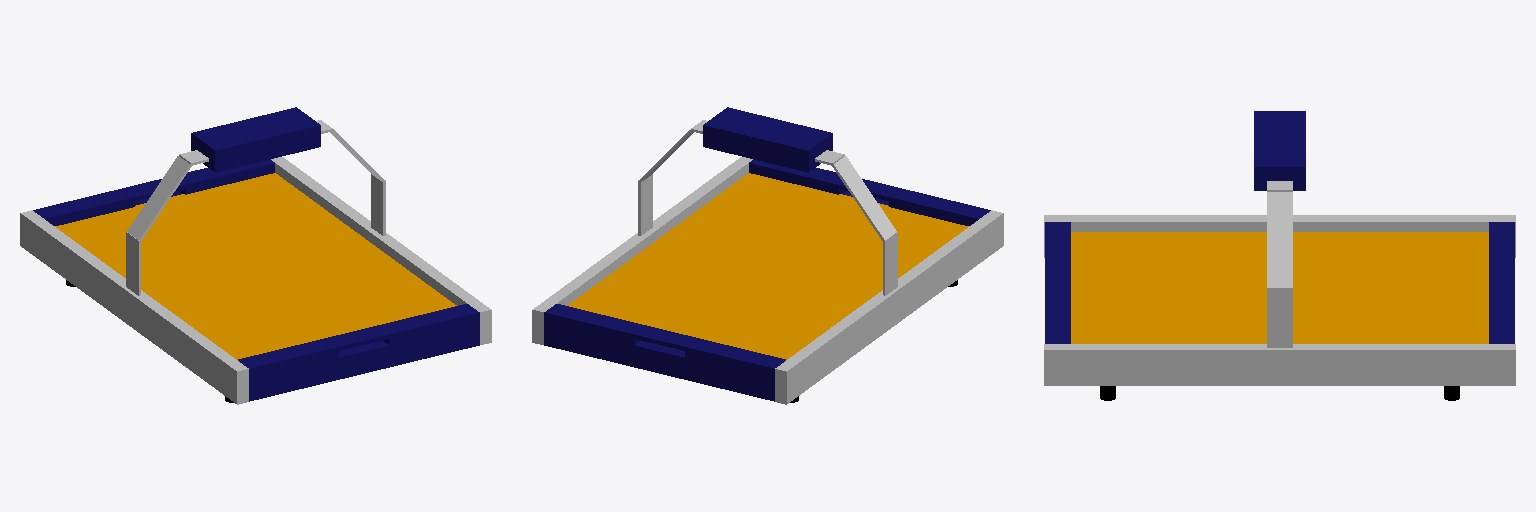
URDF robot description (mesa):
<?xml version="1.0"?>
<robot name="mesa">

  <material name="black">
    <color rgba="0 0 0 1"/>
  </material>       

  <material name="red">
    <color rgba="1 0 0 1"/>
  </material>              

  <material name="blue">
    <color rgba="0.1 0.1 0.44 1"/>
  </material>

  <material name="blue_t">
    <color rgba="0.1 0.1 0.44 0.99"/>
  </material>

  <material name="gris">
    <color rgba="0.80 0.80 0.80 1"/>
  </material> 

  <material name="black_transparent">
    <color rgba="0. 0. 0. 0.8"/>
  </material> 
     

  <link name="base_link">
    <visual>
      <geometry>
        <box size="11 16 0.1"/>
      </geometry>
    </visual>
    <collision>
      <geometry>
        <box size="11 16 0.1"/>
      </geometry>
    </collision>
    <inertial>
      <mass value="10"/>
      <inertia ixx="1.0" ixy="1.0" ixz="1.0" iyy="1.0" iyz="1.0" izz="1.0"/>
    </inertial>
    <contact> 
            <lateral_friction value="0"/>
            <restitution value="0.0" />
    </contact>

  </link>

  <link name="leg_1">
    <visual>
      <geometry>
        <cylinder length="2" radius="0.3"/>
        
      </geometry>
      <origin rpy="0 0 0" xyz="4.9 -6.5 -1.0"/> 
      <material name="black"/>
    </visual>
    <collision>
      <geometry>
        <cylinder length="2" radius="0.3"/>
      </geometry>
      <origin rpy="0 0 0" xyz="4.9 -6.5 -1.0"/> 
    </collision>
    <inertial>
      <mass value="10"/>
      <inertia ixx="1.0" ixy="0.0" ixz="0.0" iyy="1.0" iyz="0.0" izz="1.0"/>
    </inertial>
  </link>

  <link name="leg_2">
    <visual>
      <geometry>
        <cylinder length="2" radius="0.3"/>
      </geometry>
      <origin rpy="0 0 0" xyz="4.9 6.5 -1.0"/>  
      <material name="black"/>
    </visual>
    <collision>
      <geometry>
       <cylinder length="2" radius="0.3"/>
      </geometry>
      <origin rpy="0 0 0" xyz="4.9 6.5 -1.0"/>  
    </collision>
    <inertial>
      <mass value="10"/>
      <inertia ixx="1.0" ixy="0.0" ixz="0.0" iyy="1.0" iyz="0.0" izz="1.0"/>
    </inertial>
    
  </link>

  <link name="leg_3">
    <visual>
      <geometry>
        <cylinder length="2" radius="0.3"/>
      </geometry>
      <origin rpy="0 0 0" xyz="-4.9 -6.5 -1.0"/> 
      <material name="black"/>
    </visual>
    <collision>
      <geometry>
        <cylinder length="2" radius="0.3"/>
      </geometry>
      <origin rpy="0 0 0" xyz="-4.9 -6.5 -1.0"/>  
    </collision>
    <inertial>
      <mass value="10"/>
      <inertia ixx="1.0" ixy="0.0" ixz="0.0" iyy="1.0" iyz="0.0" izz="1.0"/>
    </inertial>
  </link>

  <link name="leg_4">
    <visual>
      <geometry>
        <cylinder length="2" radius="0.3"/>
      </geometry>
      <origin rpy="0 0 0" xyz="-4.9 6.5 -1.0"/>  
      <material name="black"/>
    </visual>
    <collision>
      <geometry>
        <cylinder length="2" radius="0.3"/>
      </geometry>
      <origin rpy="0 0 0" xyz="-4.9 6.5 -1.0"/>  
    </collision>   
    <inertial>
      <mass value="10"/>
      <inertia ixx="1.0" ixy="0.0" ixz="0.0" iyy="1.0" iyz="0.0" izz="1.0"/>
    </inertial> 
  </link>


  <link name="wall_leg1_leg4">
    <visual>
      <geometry>
        <box size="9.5 0.3 1.8"/>
      </geometry>
      <origin rpy="0 0 0" xyz="0 6.5 -0.95"/>  
      <material name="black"/>
    </visual>
    <collision>
      <geometry>
       <box size="9.5 0.3 1.8"/>
      </geometry>
      <origin rpy="0 0 0" xyz="0 6.5 -0.95"/>  
    </collision>
    <inertial>
      <mass value="10"/>
      <inertia ixx="1.0" ixy="0.0" ixz="0.0" iyy="1.0" iyz="0.0" izz="1.0"/>
    </inertial>
    
  </link>


  <link name="wall_leg2_leg3">
    <visual>
      <geometry>
        <box size="9.5 0.3 1.8"/>
      </geometry>
      <origin rpy="0 0 0" xyz="0 -6.5 -0.95"/>  
      <material name="black"/>
    </visual>
    <collision>
      <geometry>
       <box size="9.5 0.3 1.8"/>
      </geometry>
      <origin rpy="0 0 0" xyz="0 -6.5 -0.95"/>  
    </collision>
    <inertial>
      <mass value="10"/>
      <inertia ixx="1.0" ixy="0.0" ixz="0.0" iyy="1.0" iyz="0.0" izz="1.0"/>
    </inertial>
  </link>

  <link name="side_wall_1">
    <visual>
      <geometry>
        <box size="0.56 1.5 17.8"/>
      </geometry>
      <origin rpy="1.570796 0 0" xyz="5.75 0.0 -0.25"/>  
      <material name="gris"/>
    </visual>
    <collision>
      <geometry>
        <box size="0.56 3.0 17.8"/>
      </geometry>
      <origin rpy="1.570796 0 0" xyz="5.75 0.0 -0.25"/>  
    </collision>
    <inertial>
      <mass value="10"/>
      <inertia ixx="1.0" ixy="0.0" ixz="0.0" iyy="1.0" iyz="0.0" izz="1.0"/>
    </inertial>
    <contact> 
            <lateral_friction value="0"/>
            <restitution value="1.15" />
    </contact>
  </link>

  <link name="side_wall_2">
    <visual>
      <geometry>
        <box size="0.56 1.5 17.8"/>
      </geometry>
      <origin rpy="1.570796 0 0" xyz="-5.75 0.0 -0.25"/>  
      <material name="gris"/>
    </visual> 
    <collision>
      <geometry>
        <box size="0.56 3.0 17.8"/>
      </geometry>
      <origin rpy="1.570796 0 0" xyz="-5.75 0.0 -0.25"/>  
    </collision>
    <inertial>
      <mass value="10"/>
      <inertia ixx="1.0" ixy="0.0" ixz="0.0" iyy="1.0" iyz="0.0" izz="1.0"/>
    </inertial>
    <contact> 
            <lateral_friction value="0"/>
            <restitution value="1.15" />
    </contact>
  </link>

  <link name="side_wall_3_1">
    <visual>
      <geometry>
        <box size="1.5 1 4.28"/>
      </geometry>
      <origin rpy="0 1.570796 0" xyz="-3.33 -8.39 -0.25"/>  
      <material name="blue"/>
    </visual>
    <collision>
      <geometry>
        <box size="3.0 1 4.28"/>
      </geometry>
      <origin rpy="0 1.570796 0" xyz="-3.33 -8.39 -0.25"/>  
      <material name="blue"/>
    </collision>
    <inertial>
      <mass value="10"/>
      <inertia ixx="1.0" ixy="0.0" ixz="0.0" iyy="1.0" iyz="0.0" izz="1.0"/>
    </inertial>
    <contact> 
            <lateral_friction value="0"/>
            <restitution value="1.15" />
    </contact>
  </link>

  <link name="side_wall_3_2">
    <visual>
      <geometry>
        <box size="1.5 1 4.28"/>
      </geometry>
      <origin rpy="0 1.570796 0" xyz="3.33 -8.39 -0.25"/>  
      <material name="blue"/>
    </visual>
    <collision>
      <geometry>
        <box size="3.0 1 4.28"/>
      </geometry>
      <origin rpy="0 1.570796 0" xyz="3.33 -8.39 -0.25"/>  
      <material name="blue"/>
    </collision>
    <inertial>
      <mass value="10"/>
      <inertia ixx="1.0" ixy="0.0" ixz="0.0" iyy="1.0" iyz="0.0" izz="1.0"/>
    </inertial>
    <contact> 
            <lateral_friction value="0"/>
            <restitution value="1.15" />
    </contact>
  </link>

  <link name="side_wall_3_3">
    <visual>
      <geometry>
        <box size="0.2 1 2.4"/>
      </geometry>
      <origin rpy="0 1.570796 0" xyz="0. -8.39 0.40"/>  
      <material name="blue"/>
    </visual>
    <collision>
      <geometry>
        <box size="0.4 1 2.4"/>
      </geometry>
      <origin rpy="0 1.570796 0" xyz="0. -8.39 1.35"/>  
      <material name="blue"/>
    </collision>
    <inertial>
      <mass value="10"/>
      <inertia ixx="1.0" ixy="0.0" ixz="0.0" iyy="1.0" iyz="0.0" izz="1.0"/>
    </inertial>
    <contact> 
            <lateral_friction value="0"/>
            <restitution value="1.15" />
    </contact>
  </link>

  <link name="side_wall_3_4">
    <visual>
      <geometry>
        <box size="1.0 1 2.4"/>
      </geometry>
      <origin rpy="0 1.570796 0" xyz="0. -8.39 -0.5"/>  
      <material name="blue"/>
    </visual>
    <collision>
      <geometry>
        <box size="1.0 1 2.4"/>
      </geometry>
      <origin rpy="0 1.570796 0" xyz="0. -8.39 -0.5"/>  
    </collision>
    <inertial>
      <mass value="10"/>
      <inertia ixx="1.0" ixy="0.0" ixz="0.0" iyy="1.0" iyz="0.0" izz="1.0"/>
    </inertial>
    <contact> 
            <lateral_friction value="0"/>
            <restitution value="1.15" />
    </contact>
  </link>

  <link name="side_wall_4_1">
    <visual>
      <geometry>
        <box size="1.5 1.0 4.28"/>
      </geometry>
      <origin rpy="0 1.570796 0" xyz="-3.33 8.39 -0.25"/>  
      <material name="blue"/>
    </visual>
    <collision>
      <geometry>
        <box size="3.0 1.0 4.28"/>
      </geometry>
      <origin rpy="0 1.570796 0" xyz="-3.33 8.39 -0.25"/>  
    </collision>
    <inertial>
      <mass value="10"/>
      <inertia ixx="1.0" ixy="0.0" ixz="0.0" iyy="1.0" iyz="0.0" izz="1.0"/>
    </inertial>
    <contact> 
            <lateral_friction value="0"/>
            <restitution value="1.15" />
    </contact>
  </link>

  <link name="side_wall_4_2">
    <visual>
      <geometry>
        <box size="1.5 1.0 4.28"/>
      </geometry>
      <origin rpy="0 1.570796 0" xyz="3.33 8.39 -0.25"/>  
      <material name="blue"/>
    </visual>
    <collision>
      <geometry>
        <box size="3.0 1.0 4.28"/>
      </geometry>
      <origin rpy="0 1.570796 0" xyz="3.33 8.39 -0.25"/>  
      <material name="blue"/>
    </collision>
    <inertial>
      <mass value="10"/>
      <inertia ixx="1.0" ixy="0.0" ixz="0.0" iyy="1.0" iyz="0.0" izz="1.0"/>
    </inertial>
    <contact> 
            <lateral_friction value="0"/>
            <restitution value="1.15" />
    </contact>
  </link>

  <link name="side_wall_4_3">
    <visual>
      <geometry>
        <box size="0.2 1.0 2.4"/>
      </geometry>
      <origin rpy="0 1.570796 0" xyz="0. 8.39 0.40"/>  
      <material name="blue"/>
    </visual>
    <collision>
      <geometry>
        <box size="0.4 1.0 2.4"/>
      </geometry>
      <origin rpy="0 1.570796 0" xyz="0. 8.39 1.35"/>  
      <material name="blue"/>
    </collision>
    <inertial>
      <mass value="10"/>
      <inertia ixx="1.0" ixy="0.0" ixz="0.0" iyy="1.0" iyz="0.0" izz="1.0"/>
    </inertial>
        <contact> 
            <lateral_friction value="0"/>
            <restitution value="1.15" />
    </contact>
  </link>

  <link name="side_wall_4_4">
    <visual>
      <geometry>
        <box size="1.0 1.0 2.4"/>
      </geometry>
      <origin rpy="0 1.570796 0" xyz="0. 8.39 -0.5"/>  
      <material name="blue"/>
    </visual>
    <collision>
      <geometry>
        <box size="1.0 1.0 2.4"/>
      </geometry>
      <origin rpy="0 1.570796 0" xyz="0. 8.39 -0.5"/>  
    </collision>
    <inertial>
      <mass value="10"/>
      <inertia ixx="1.0" ixy="0.0" ixz="0.0" iyy="1.0" iyz="0.0" izz="1.0"/>
    </inertial>
    <contact> 
            <lateral_friction value="0"/>
            <restitution value="1.15" />
    </contact>
  </link>

  <link name="limit_left">
    <visual>
      <geometry>
        <box size="0 0 0"/>
      </geometry>
    </visual>
    <collision>
      <geometry>
        <box size="1.0 1.0 2.4"/>
      </geometry>
      <origin rpy="0 1.570796 0" xyz="0. 9.5 0.0"/>  
    </collision>
    <inertial>
      <mass value="10"/>
      <inertia ixx="1.0" ixy="0.0" ixz="0.0" iyy="1.0" iyz="0.0" izz="1.0"/>
    </inertial>
    <contact> 
            <lateral_friction value="0"/>
            <restitution value="0.5" />
    </contact>
  </link>

  <link name="limit_right">
    <visual>
      <geometry>
        <box size="0 0 0"/>
      </geometry>
    </visual>
    <collision>
      <geometry>
        <box size="1.0 1.0 2.4"/>
      </geometry>
      <origin rpy="0 1.570796 0" xyz="0. -9.5 0.0"/>  
    </collision>
    <inertial>
      <mass value="10"/>
      <inertia ixx="1.0" ixy="0.0" ixz="0.0" iyy="1.0" iyz="0.0" izz="1.0"/>
    </inertial>
    <contact> 
            <lateral_friction value="0"/>
            <restitution value="0.5" />
    </contact>
  </link>

  <link name="score">
    <visual>
      <geometry>
        <box size="5 2.0 1.0"/>
      </geometry>
      <origin rpy="0 0 0" xyz="0. 0. 6.0"/>  
      <material name="blue_t"/>
    </visual>
    <inertial>
      <mass value="10"/>
      <inertia ixx="1.0" ixy="0.0" ixz="0.0" iyy="1.0" iyz="0.0" izz="1.0"/>
    </inertial>
  </link>

  <link name="support_score_1">
    <visual>
      <geometry>
       <box size="0.12 1.0 3.1"/>
        <cylinder length="3.0" radius="0.12"/>
      </geometry>
      <origin rpy="0 0 0" xyz="-5.8 0. 1.45"/>  
     <material name="gris"/>  
    </visual>
    <inertial>
      <mass value="10"/>
      <inertia ixx="1.0" ixy="0.0" ixz="0.0" iyy="1.0" iyz="0.0" izz="1.0"/>
    </inertial>
  </link>

  <link name="support_score_2">
    <visual>
      <geometry>
        <box size="0.12 1.0 2.24"/>
      </geometry>
      <origin rpy="0 1.57 0" xyz="-2.24 0. 5.87"/>  
      <material name="gris"/> 
    </visual>
    <inertial>
      <mass value="10"/>
      <inertia ixx="1.0" ixy="0.0" ixz="0.0" iyy="1.0" iyz="0.0" izz="1.0"/>
    </inertial>
  </link>

  <link name="support_score_3">
    <visual>
      <geometry>
        <box size="0.12 1.0 3.1"/>
      </geometry>
      <origin rpy="0 0 0" xyz="5.8 0. 1.45"/>  
      <material name="gris"/> 
    </visual>
    <inertial>
      <mass value="10"/>
      <inertia ixx="1.0" ixy="0.0" ixz="0.0" iyy="1.0" iyz="0.0" izz="1.0"/>
    </inertial>
  </link>

  <link name="support_score_4">
    <visual>
      <geometry>
        <box size="0.12 1.0 2.24"/>
      </geometry>
      <origin rpy="0 1.57 0" xyz="2.24 0. 5.87"/>  
     <material name="gris"/>  
    </visual>
    <inertial>
      <mass value="10"/>
      <inertia ixx="1.0" ixy="0.0" ixz="0.0" iyy="1.0" iyz="0.0" izz="1.0"/>
    </inertial>
  </link>

  <link name="support_score_5">
    <visual>
      <geometry>
        <box size="0.12 1.0 3.8"/>
      </geometry>
      <origin rpy="0 0.7 0" xyz="-4.58 0. 4.4"/>  
      <material name="gris"/> 
    </visual>
    <inertial>
      <mass value="10"/>
      <inertia ixx="1.0" ixy="0.0" ixz="0.0" iyy="1.0" iyz="0.0" izz="1.0"/>
    </inertial>
  </link>

  <link name="support_score_6">
    <visual>
      <geometry>
        <box size="0.12 1.0 3.8"/>
      </geometry>
      <origin rpy="0 -0.7 0" xyz="4.58 0. 4.4"/>  
       <material name="gris"/>
    </visual>
    <inertial>
      <mass value="10"/>
      <inertia ixx="1.0" ixy="0.0" ixz="0.0" iyy="1.0" iyz="0.0" izz="1.0"/>
    </inertial>
  </link>

  <joint name="base_to_leg_1" type="fixed">
    <parent link="base_link"/>
    <child link="leg_1"/>
    <origin xyz="0 0 0"/>
  </joint>

  <joint name="base_to_leg_2" type="fixed">
    <parent link="base_link"/>
    <child link="leg_2"/>
    <origin xyz="0 0 0"/>
  </joint>

  <joint name="base_to_leg_3" type="fixed">
    <parent link="base_link"/>
    <child link="leg_3"/>
    <origin xyz="0 0 0"/>
  </joint>

  <joint name="base_to_leg_4" type="fixed">
    <parent link="base_link"/>
    <child link="leg_4"/>
    <origin xyz="0 0 0"/>
  </joint>

  <joint name="base_to_wall_leg1_leg4" type="fixed">
    <parent link="base_link"/>
    <child link="wall_leg1_leg4"/>
    <origin xyz="0 0 0"/>
  </joint>

  <joint name="base_to_wall_leg2_leg3" type="fixed">
    <parent link="base_link"/>
    <child link="wall_leg2_leg3"/>
    <origin xyz="0 0 0"/>
  </joint>

  <joint name="base_to_side_wall_1" type="fixed">
    <parent link="base_link"/>
    <child link="side_wall_1"/>
    <origin xyz="0 0 0"/>
  </joint>

  <joint name="base_to_side_wall_2" type="fixed">
    <parent link="base_link"/>
    <child link="side_wall_2"/>
    <origin xyz="0 0 0"/>
  </joint>

  <joint name="base_to_side_wall_3_1" type="fixed">
    <parent link="base_link"/>
    <child link="side_wall_3_1"/>
    <origin xyz="0 0 0"/>
  </joint>

  <joint name="base_to_side_wall_3_2" type="fixed">
    <parent link="base_link"/>
    <child link="side_wall_3_2"/>
    <origin xyz="0 0 0"/>
  </joint>

  <joint name="base_to_side_wall_3_3" type="fixed">
    <parent link="base_link"/>
    <child link="side_wall_3_3"/>
    <origin xyz="0 0 0"/>
  </joint>

  <joint name="base_to_side_wall_3_4" type="fixed">
    <parent link="base_link"/>
    <child link="side_wall_3_4"/>
    <origin xyz="0 0 0"/>
  </joint>

  <joint name="base_to_side_wall_4_1" type="fixed">
    <parent link="base_link"/>
    <child link="side_wall_4_1"/>
    <origin xyz="0 0 0"/>
  </joint>

  <joint name="base_to_side_wall_4_2" type="fixed">
    <parent link="base_link"/>
    <child link="side_wall_4_2"/>
    <origin xyz="0 0 0"/>
  </joint>

  <joint name="base_to_side_wall_4_3" type="fixed">
    <parent link="base_link"/>
    <child link="side_wall_4_3"/>
    <origin xyz="0 0 0"/>
  </joint>

  <joint name="base_to_side_wall_4_4" type="fixed">
    <parent link="base_link"/>
    <child link="side_wall_4_4"/>
    <origin xyz="0 0 0"/>
  </joint>

  <joint name="base_to_limit_left" type="fixed">
    <parent link="base_link"/>
    <child link="limit_left"/>
    <origin xyz="0 0 0"/>
  </joint>

  <joint name="base_to_limit_right" type="fixed">
    <parent link="base_link"/>
    <child link="limit_right"/>
    <origin xyz="0 0 0"/>
  </joint>

  <joint name="base_to_score" type="fixed">
    <parent link="base_link"/>
    <child link="score"/>
    <origin xyz="0 0 0"/>
  </joint>

  <joint name="base_to_support_score_1" type="fixed">
    <parent link="base_link"/>
    <child link="support_score_1"/>
    <origin xyz="0 0 0"/>
  </joint>

  <joint name="base_to_support_score_2" type="fixed">
    <parent link="base_link"/>
    <child link="support_score_2"/>
    <origin xyz="0 0 0"/>
  </joint>

  <joint name="base_to_support_score_3" type="fixed">
    <parent link="base_link"/>
    <child link="support_score_3"/>
    <origin xyz="0 0 0"/>
  </joint>

  <joint name="base_to_support_score_4" type="fixed">
    <parent link="base_link"/>
    <child link="support_score_4"/>
    <origin xyz="0 0 0"/>
  </joint>


  <joint name="base_to_support_score_5" type="fixed">
    <parent link="base_link"/>
    <child link="support_score_5"/>
    <origin xyz="0 0 0"/>
  </joint>

  <joint name="base_to_support_score_6" type="fixed">
    <parent link="base_link"/>
    <child link="support_score_6"/>
    <origin xyz="0 0 0"/>
  </joint>


</robot>

--- Render facts (derived) ---
3 views of the same robot in one strip: view 1: azimuth 30°, elevation 25°; view 2: azimuth 150°, elevation 25°; view 3: azimuth 270°, elevation 25° (orthographic).
Robot: mesa — 26 links, 25 joints (25 fixed); root link base_link; default pose: every joint at zero.
Visible links, largest first — view 1: base_link, side_wall_2, score, side_wall_1, side_wall_3_2, side_wall_3_1, side_wall_4_1, support_score_5, side_wall_4_2, side_wall_3_4, support_score_1, side_wall_3_3 (+1 smaller); view 2: base_link, side_wall_2, score, side_wall_1, side_wall_4_2, side_wall_4_1, side_wall_3_1, support_score_5, side_wall_3_2, side_wall_4_4, support_score_1, side_wall_4_3 (+1 smaller); view 3: base_link, side_wall_1, side_wall_2, score, support_score_6, support_score_3, side_wall_3_1, side_wall_3_2, side_wall_4_1, side_wall_4_2, side_wall_3_3, side_wall_4_3.
Boxes of the visible links, left/top/right/bottom form: base_link: left=55, top=173, right=456, bottom=359; side_wall_2: left=20, top=210, right=248, bottom=404; score: left=191, top=107, right=320, bottom=172; side_wall_1: left=271, top=157, right=491, bottom=344; side_wall_3_2: left=377, top=304, right=479, bottom=366; side_wall_3_1: left=238, top=338, right=338, bottom=401; side_wall_4_1: left=33, top=188, right=134, bottom=225; support_score_5: left=127, top=156, right=191, bottom=240; side_wall_4_2: left=179, top=159, right=274, bottom=194; side_wall_3_4: left=339, top=341, right=389, bottom=379; support_score_1: left=126, top=232, right=140, bottom=295; side_wall_3_3: left=328, top=326, right=389, bottom=350; base_link: left=567, top=173, right=968, bottom=359; side_wall_2: left=775, top=210, right=1003, bottom=404; score: left=703, top=107, right=832, bottom=172; side_wall_1: left=532, top=157, right=752, bottom=344; side_wall_4_2: left=544, top=304, right=646, bottom=367; side_wall_4_1: left=685, top=338, right=785, bottom=401; side_wall_3_1: left=889, top=188, right=990, bottom=225; support_score_5: left=832, top=156, right=896, bottom=240; side_wall_3_2: left=749, top=159, right=844, bottom=194; side_wall_4_4: left=635, top=341, right=684, bottom=379; support_score_1: left=883, top=232, right=897, bottom=295; side_wall_4_3: left=634, top=326, right=695, bottom=350; base_link: left=1071, top=232, right=1488, bottom=343; side_wall_1: left=1044, top=344, right=1515, bottom=385; side_wall_2: left=1044, top=215, right=1515, bottom=257; score: left=1254, top=111, right=1305, bottom=190; support_score_6: left=1267, top=192, right=1292, bottom=287; support_score_3: left=1267, top=288, right=1292, bottom=347; side_wall_3_1: left=1045, top=222, right=1070, bottom=269; side_wall_3_2: left=1045, top=296, right=1070, bottom=343; side_wall_4_1: left=1489, top=222, right=1514, bottom=269; side_wall_4_2: left=1489, top=296, right=1514, bottom=343; side_wall_3_3: left=1045, top=270, right=1070, bottom=295; side_wall_4_3: left=1489, top=270, right=1514, bottom=295.
Size in the robot's own frame: 12.06 by 17.8 by 8.5 metres.
Geometry: primitives only (box / cylinder / sphere), no mesh files.